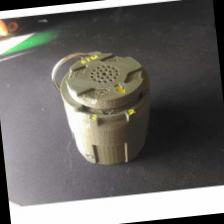M14: (52, 48, 159, 172)
